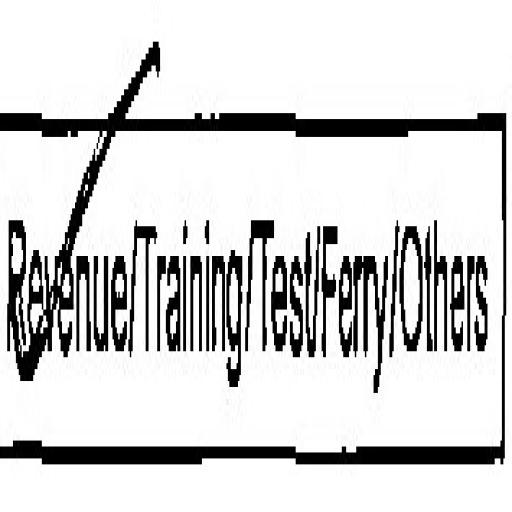check: (0, 8, 130, 512)
